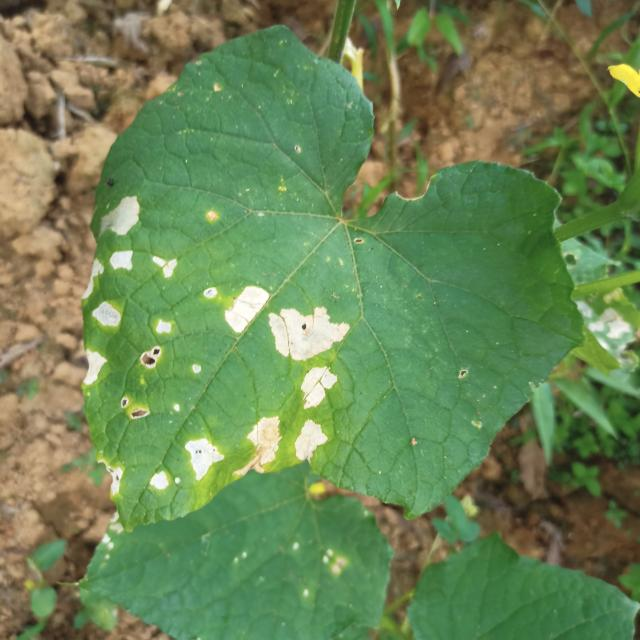disease_cucumber: (225, 286, 348, 361), (104, 198, 176, 284), (150, 437, 222, 493), (248, 418, 326, 464), (84, 256, 120, 332), (140, 317, 172, 370), (300, 367, 339, 409), (84, 349, 108, 384)
